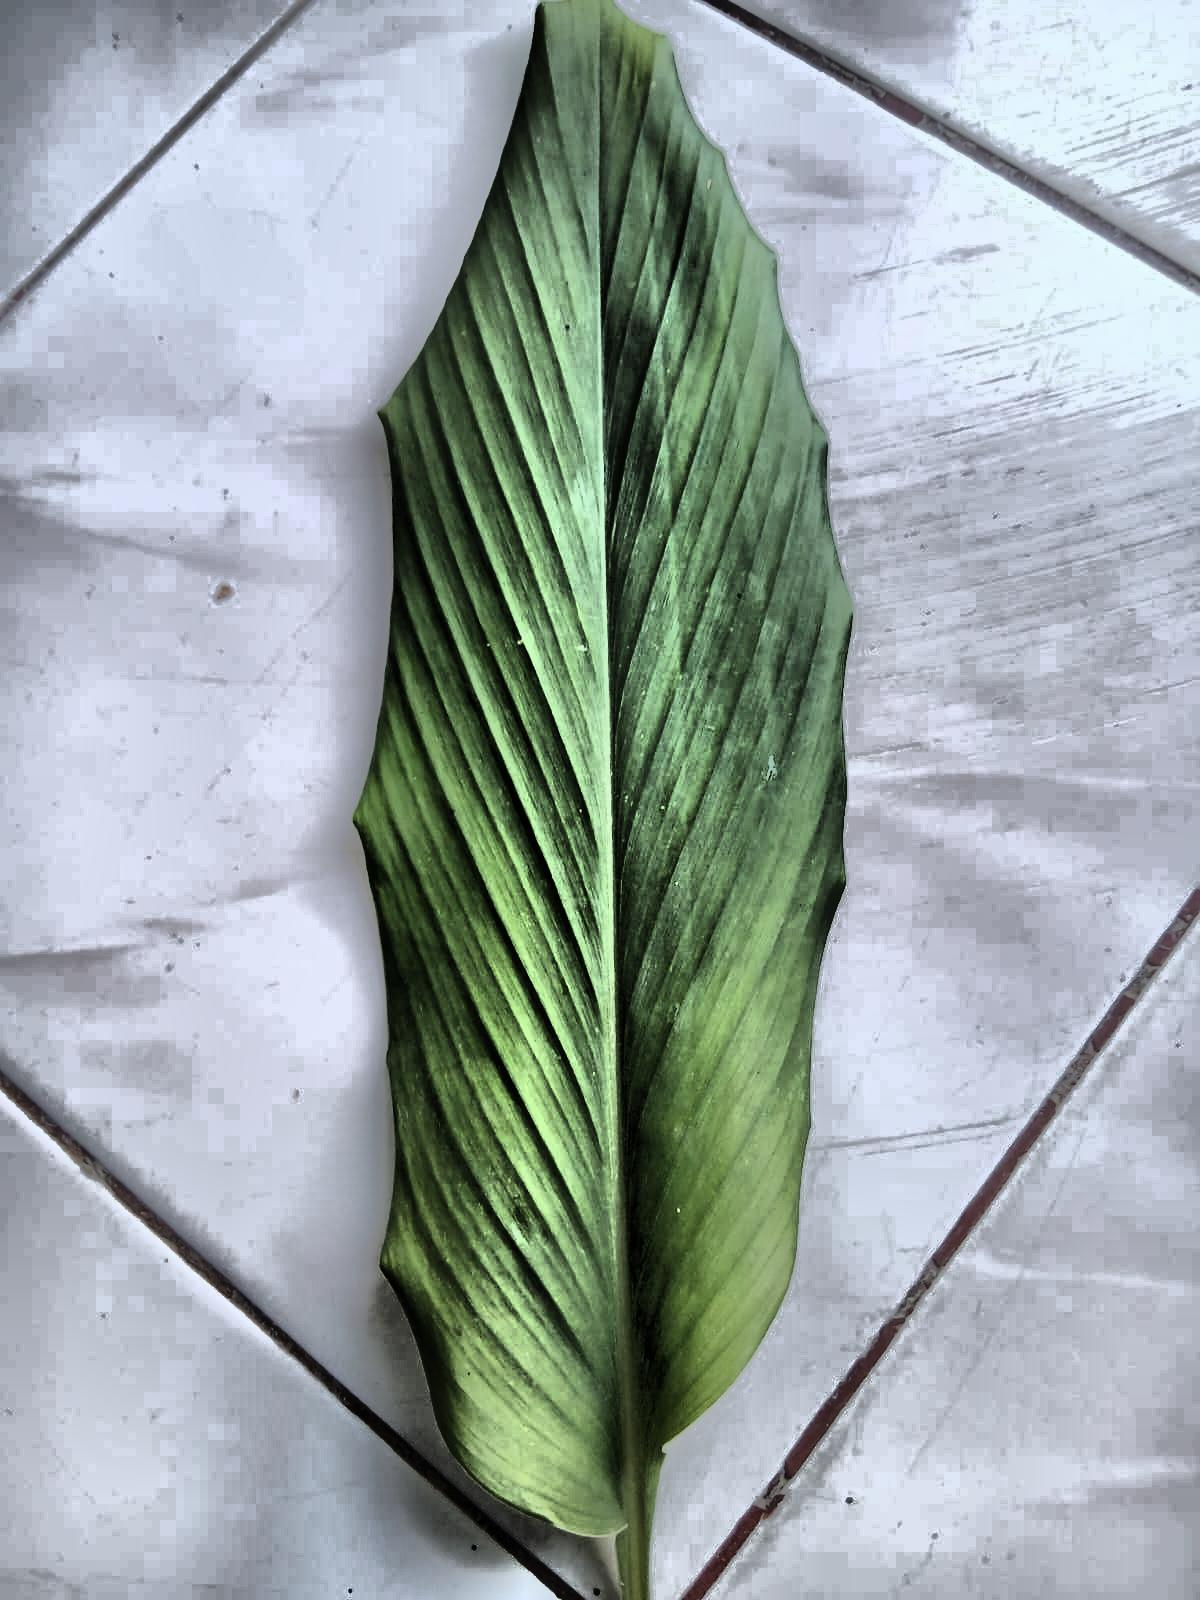daun kunyit: (355, 0, 851, 1599)
